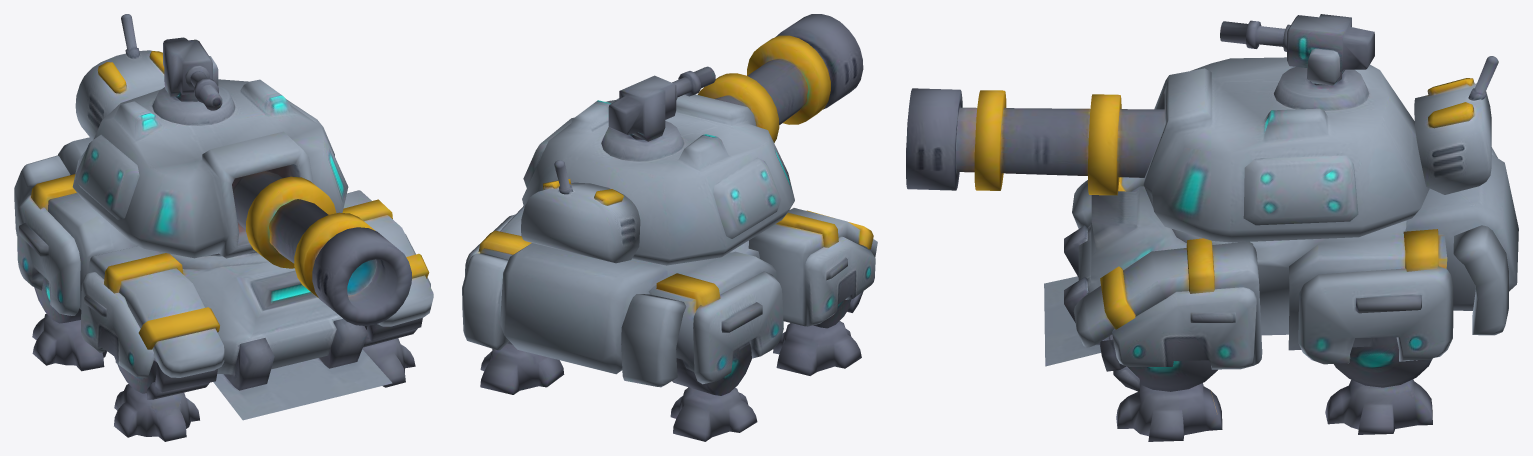
Rendered from siege_tank_2.glb.
The picture shows the model from 3 angles, left to right: view 1: azimuth 30°, elevation 25°; view 2: azimuth 150°, elevation 25°; view 3: azimuth 270°, elevation 25°; orthographic projection. The views are drawn at different scales.
Parts seen in each view (by area): view 1: tripo_node_ec8c60dc-5c56-4982-b26e-9b8db3490dab; view 2: tripo_node_ec8c60dc-5c56-4982-b26e-9b8db3490dab; view 3: tripo_node_ec8c60dc-5c56-4982-b26e-9b8db3490dab.
Boxes of the visible parts, <box> form: tripo_node_ec8c60dc-5c56-4982-b26e-9b8db3490dab: <box>14,14,433,441</box>; tripo_node_ec8c60dc-5c56-4982-b26e-9b8db3490dab: <box>462,14,877,441</box>; tripo_node_ec8c60dc-5c56-4982-b26e-9b8db3490dab: <box>906,14,1518,441</box>.
Bounding box in the file's own units: 2.19 × 2.06 × 3.4.
Materials: 1 (1 with a texture image).
